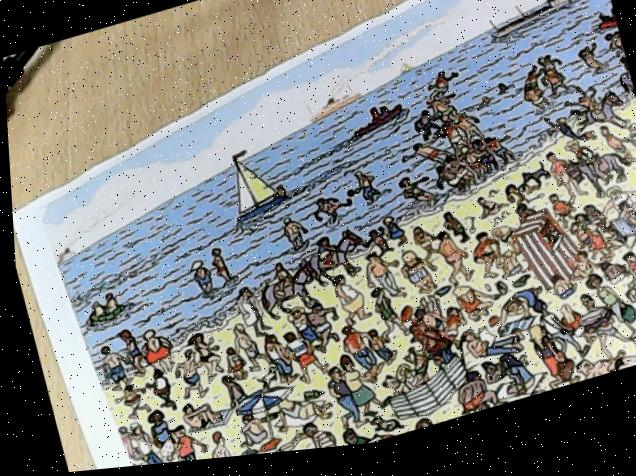waldo: (406, 322, 432, 349)
